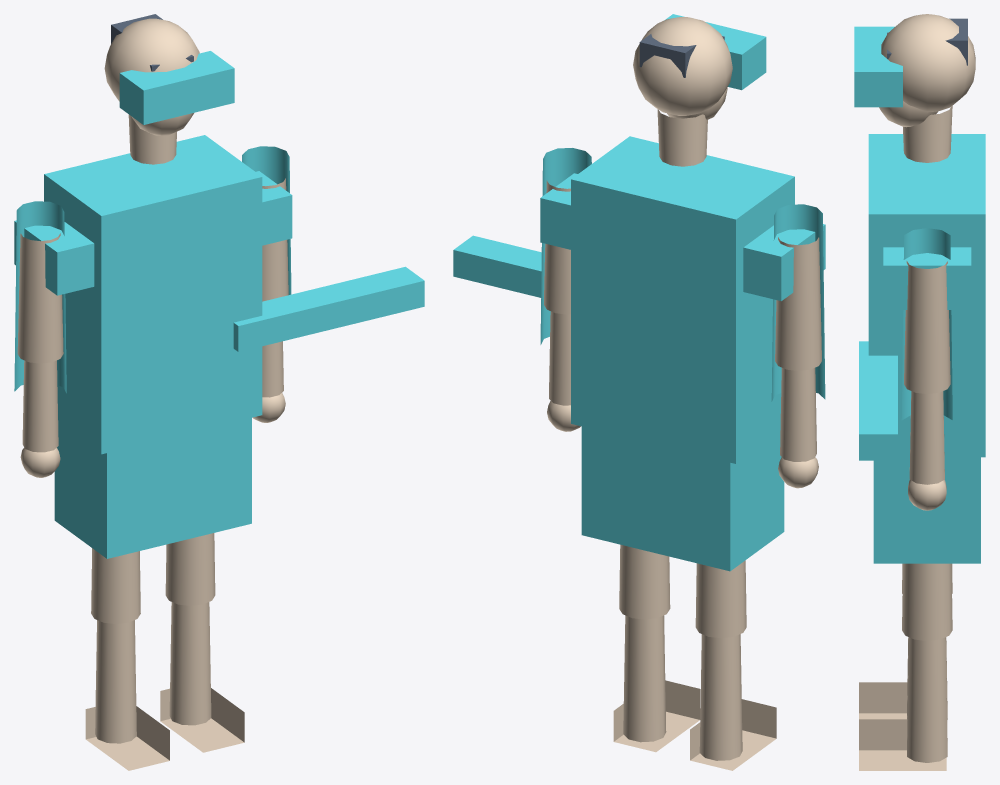
Rendered from body.glb.
3 renders of one model, left to right at view 1: azimuth 30°, elevation 25°; view 2: azimuth 150°, elevation 25°; view 3: azimuth 270°, elevation 25°, orthographic. The views are drawn at different scales.
Visible parts, largest first — view 1: Metal, Skin; view 2: Metal, Skin, Hair; view 3: Metal, Skin, Hair.
Boxes of the visible parts, x1=… form: Metal: x1=14, y1=51, x2=424, y2=558; Skin: x1=17, y1=18, x2=288, y2=770; Metal: x1=453, y1=14, x2=825, y2=571; Skin: x1=544, y1=17, x2=821, y2=770; Hair: x1=639, y1=34, x2=724, y2=77; Metal: x1=854, y1=26, x2=985, y2=563; Skin: x1=859, y1=14, x2=975, y2=770; Hair: x1=887, y1=18, x2=967, y2=65.
Size of the model in its own units: 0.9021 by 1.64 by 0.27.
